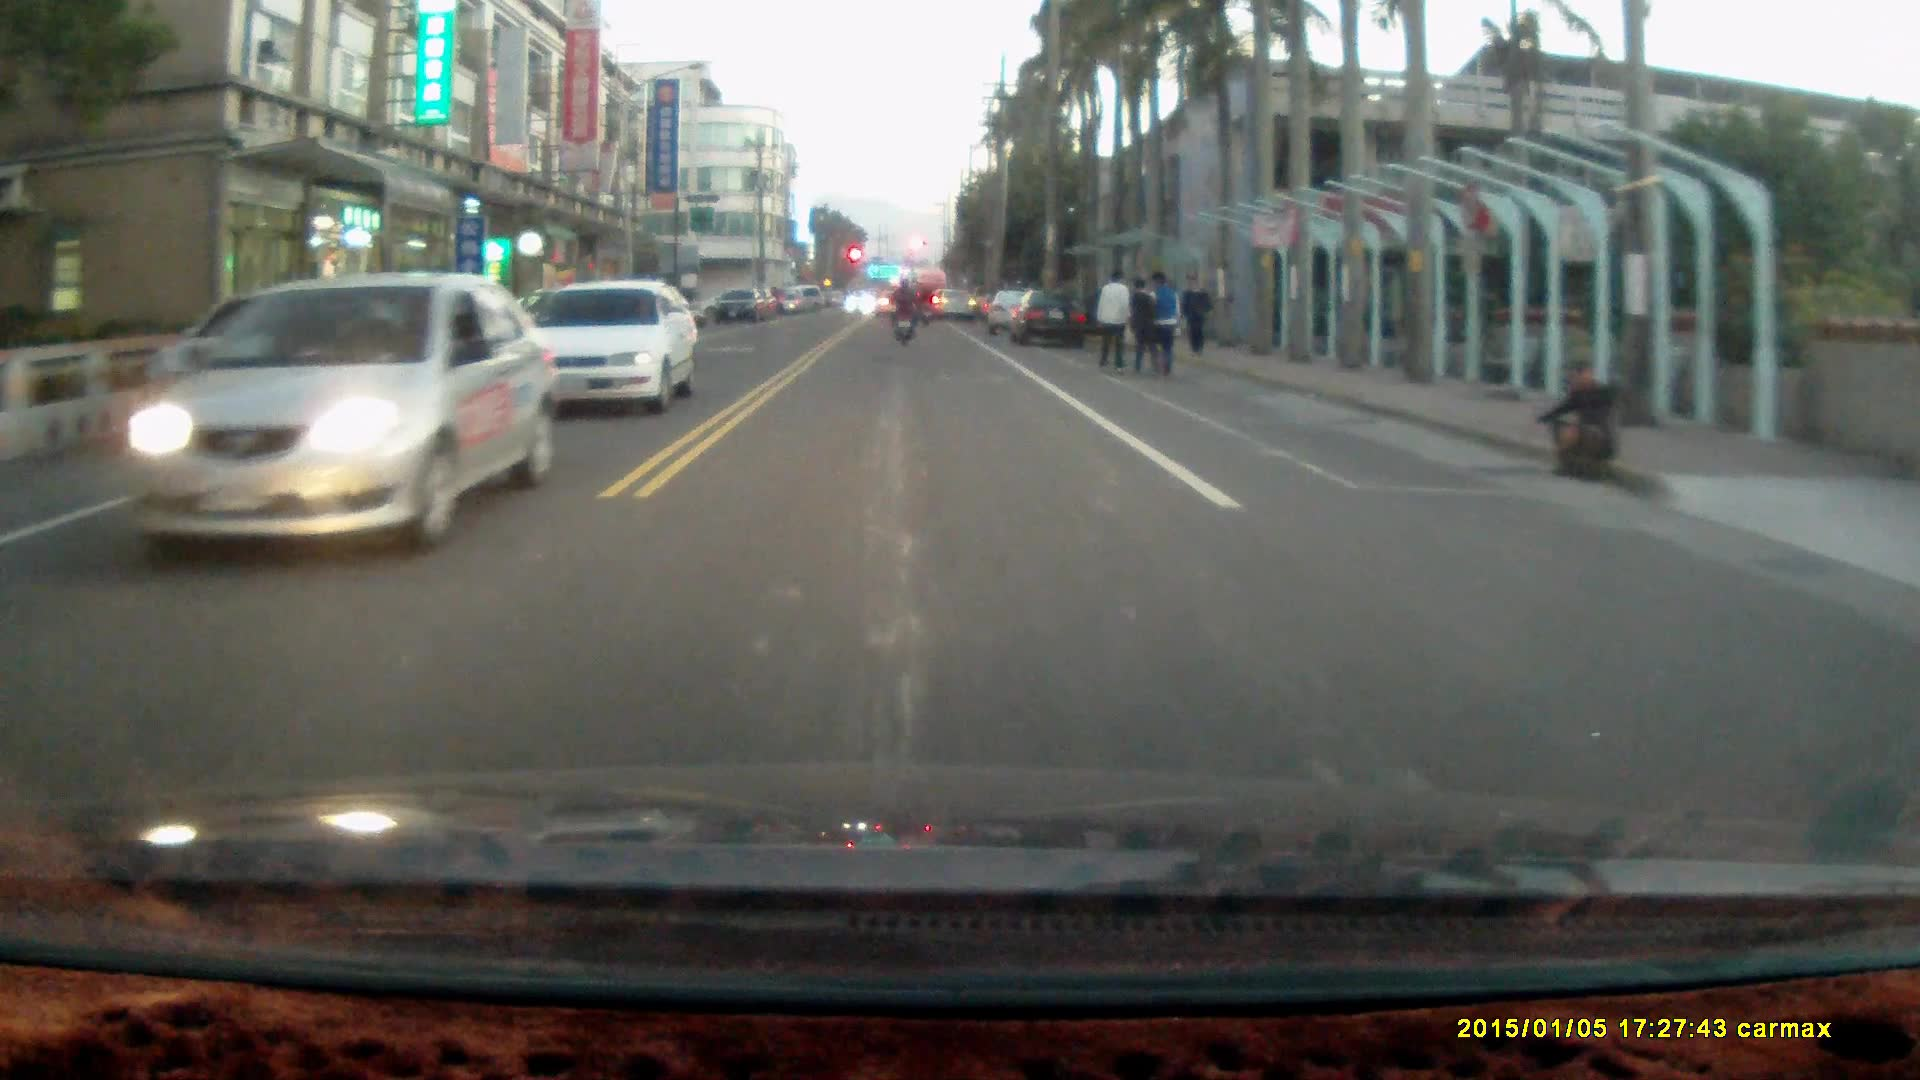pedestrian: (1533, 359, 1621, 483), (1137, 267, 1185, 376), (1093, 265, 1129, 374), (1126, 274, 1161, 375), (1176, 268, 1211, 354)
rider: (885, 275, 917, 346)
vehicle: (77, 271, 543, 557), (524, 279, 702, 415), (1004, 290, 1094, 346)
